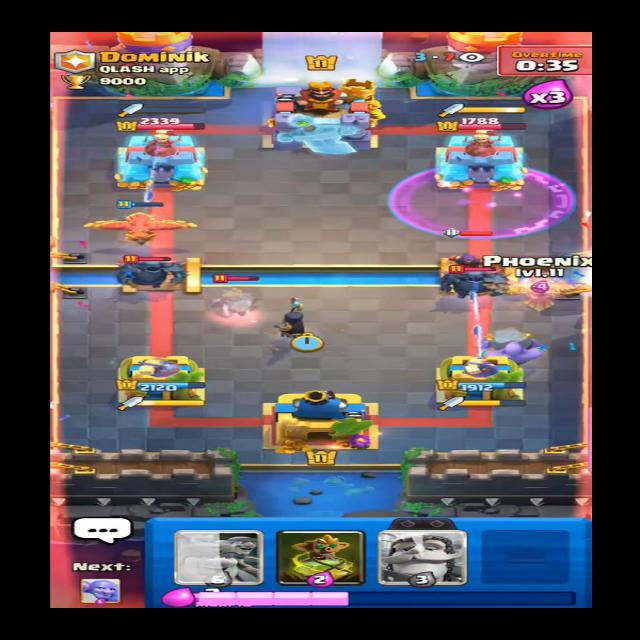evo-wizard: (426, 246, 504, 272)
pekka: (111, 245, 186, 290), (437, 260, 516, 302)
royal-ghost: (200, 271, 272, 324)
